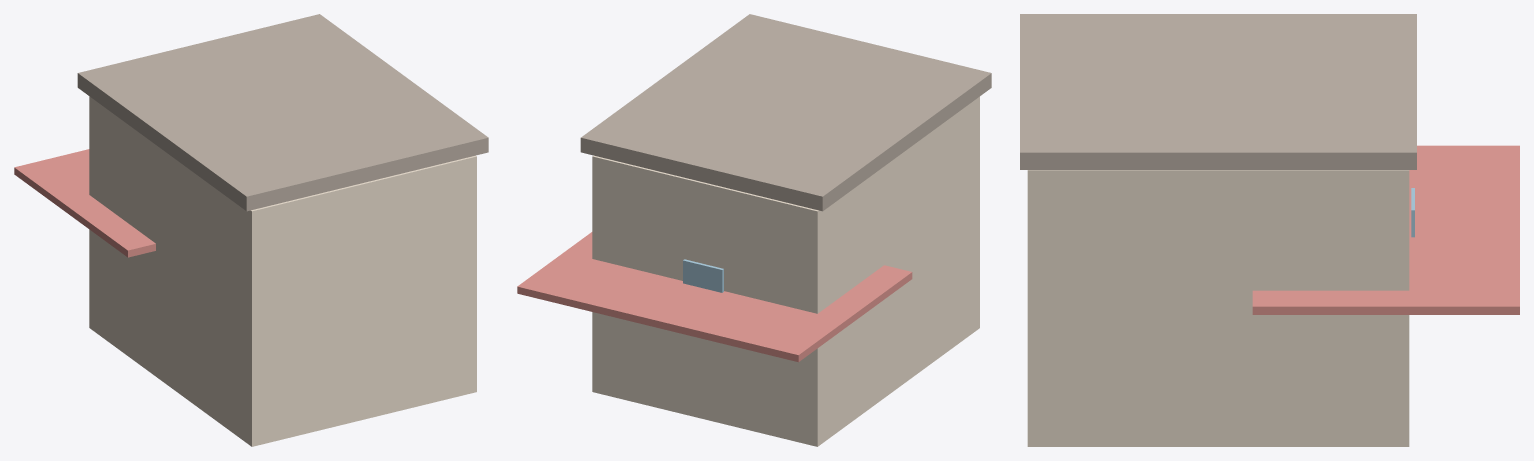
Rendered from Tile_TownL_ShopA.fbx.
3 views of the same model, side by side, from view 1: azimuth 30°, elevation 25°; view 2: azimuth 150°, elevation 25°; view 3: azimuth 270°, elevation 25° (orthographic). The views are drawn at different scales.
Parts seen in each view (by area): view 1: Building, Roof, Awning; view 2: Building, Roof, Awning, Window; view 3: Building, Roof, Awning.
Boxes of the visible parts, x1,y1,x2,y2 form: Building: (89,96,476,446); Roof: (77,14,488,211); Awning: (14,149,155,257); Building: (592,96,979,446); Roof: (580,14,991,211); Awning: (517,232,912,362); Window: (683,259,723,292); Building: (1027,170,1409,446); Roof: (1020,14,1416,169); Awning: (1252,145,1519,314).
Bounding box in the file's own units: 5 × 4.32 × 6.55.
